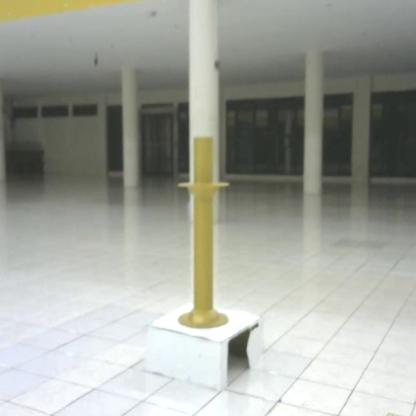pole: (178, 132, 234, 333)
